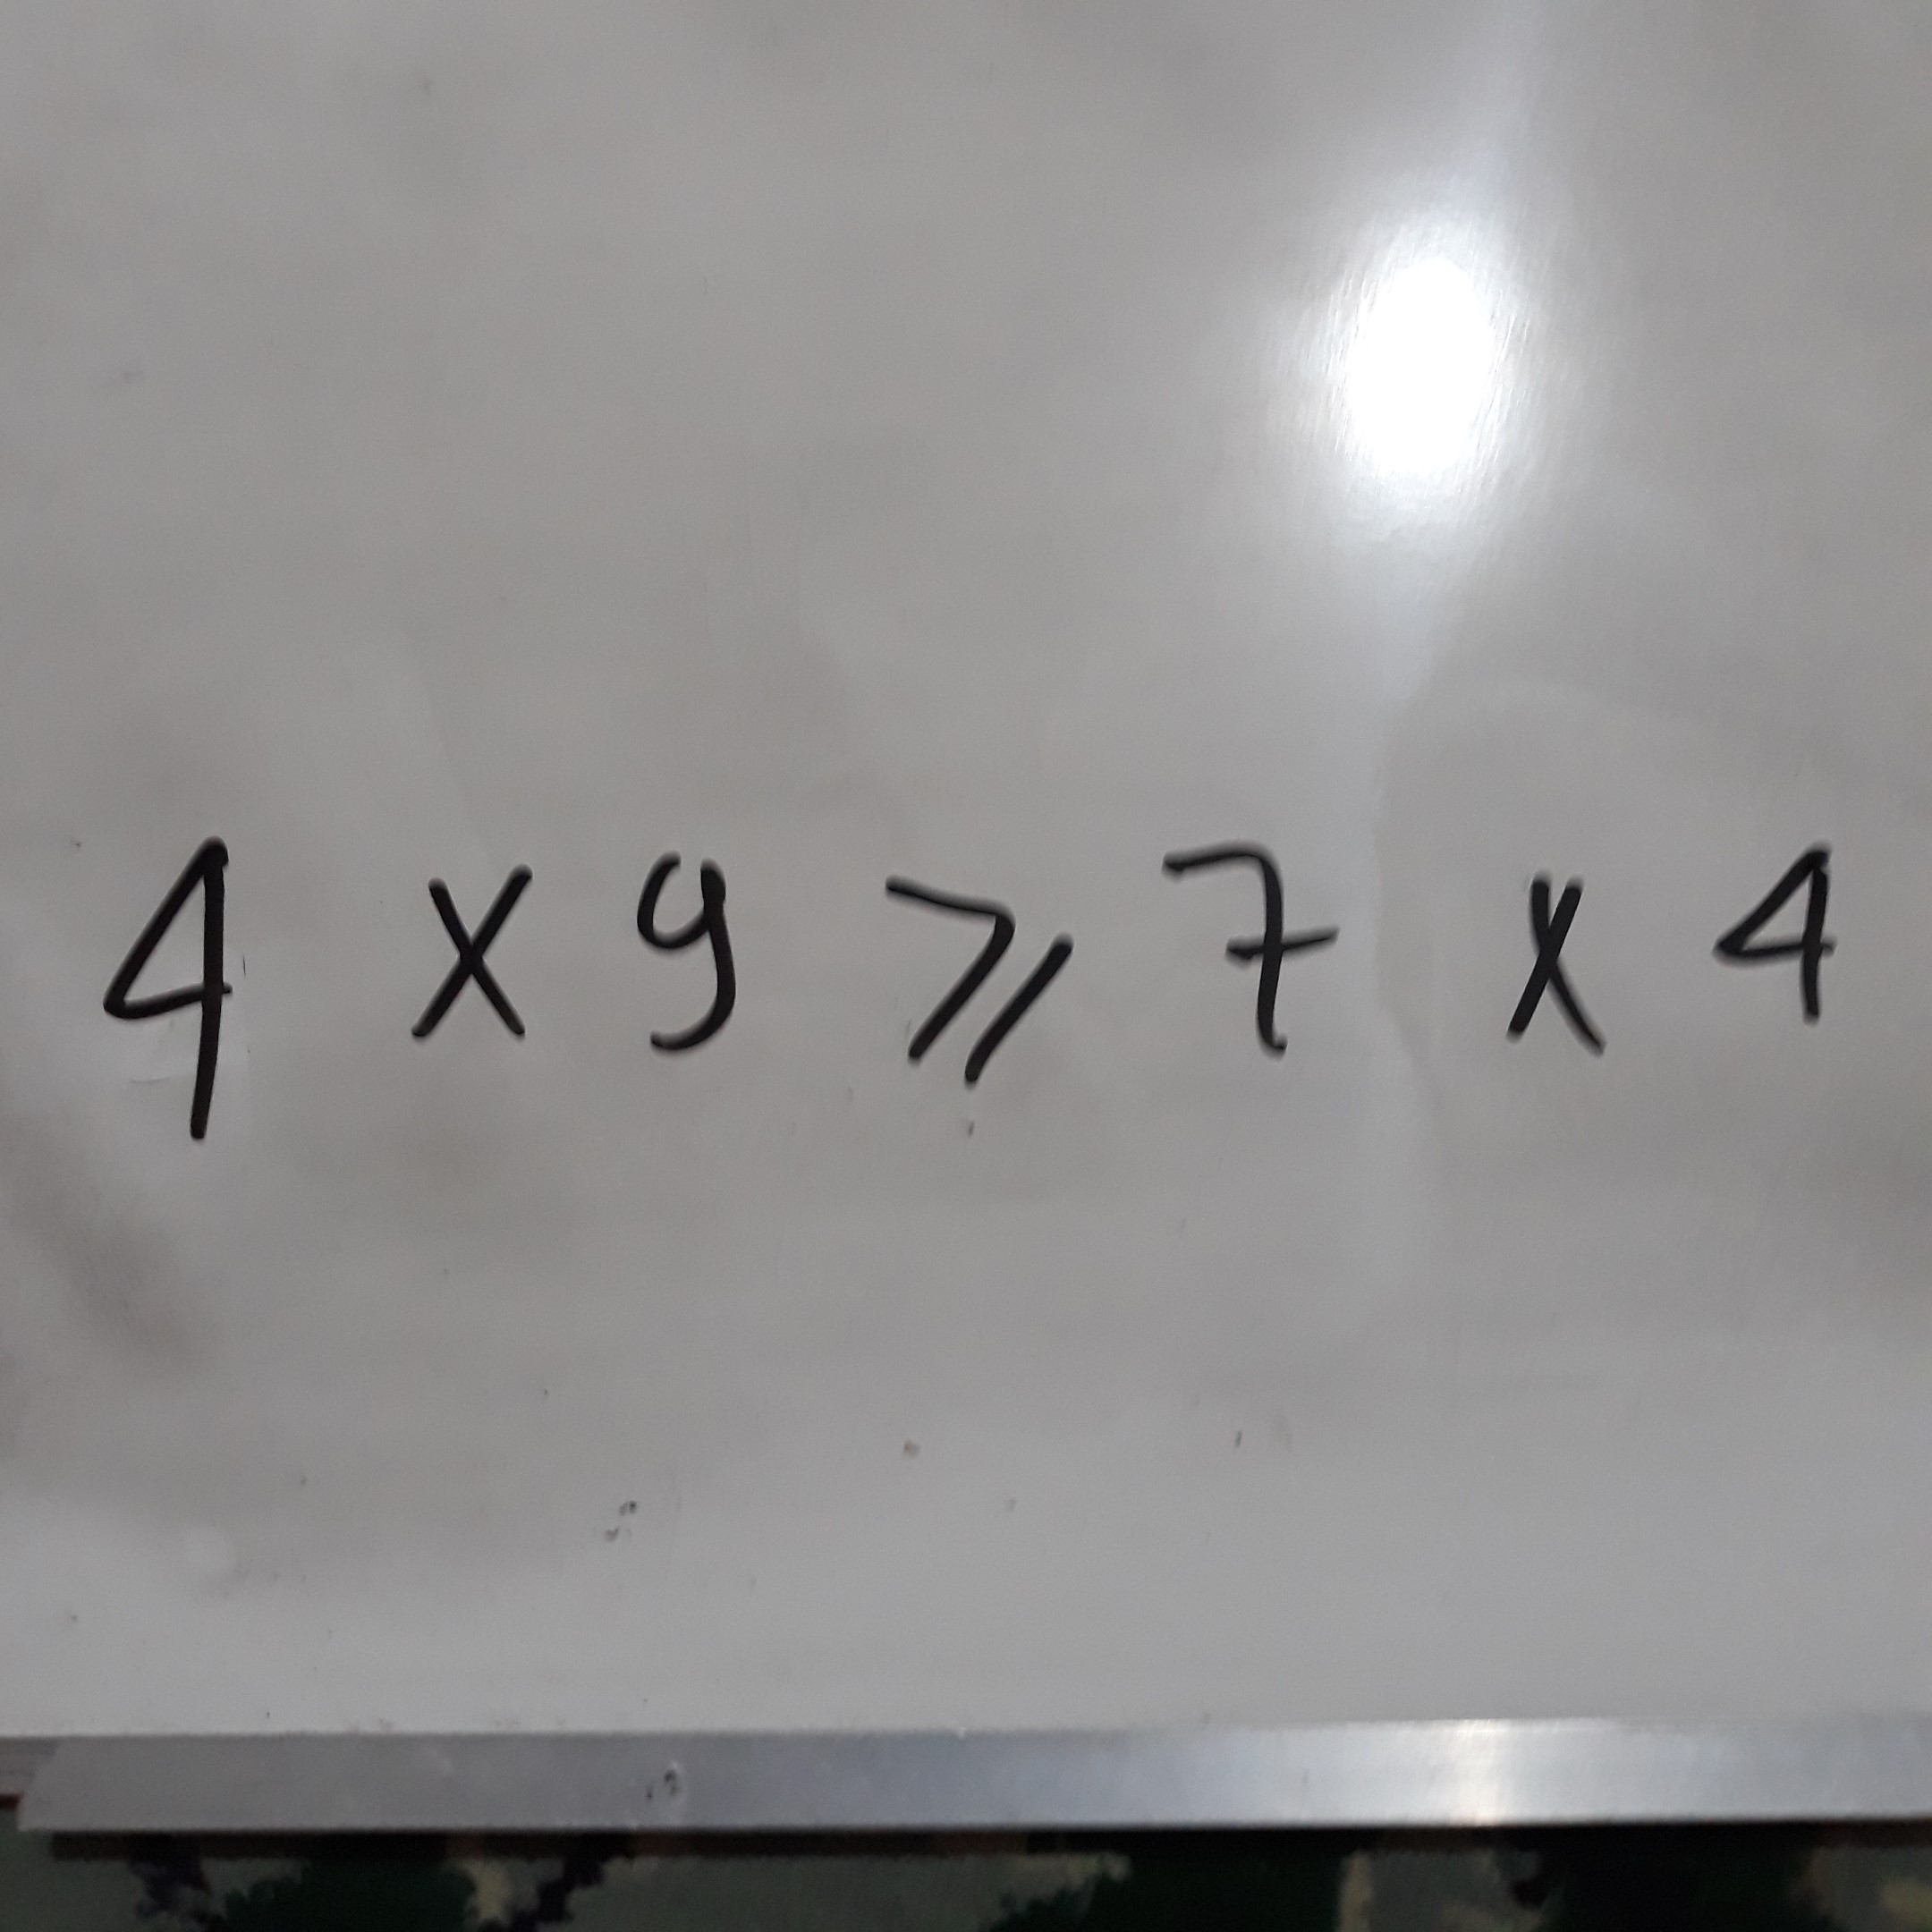morethan-equal: (862, 847, 1097, 1107)
multi: (368, 847, 561, 1063), (1476, 828, 1640, 1076)
num4: (72, 802, 285, 1160), (1699, 809, 1864, 1057)
num7: (1142, 815, 1377, 1075)
num9: (596, 836, 774, 1093)
